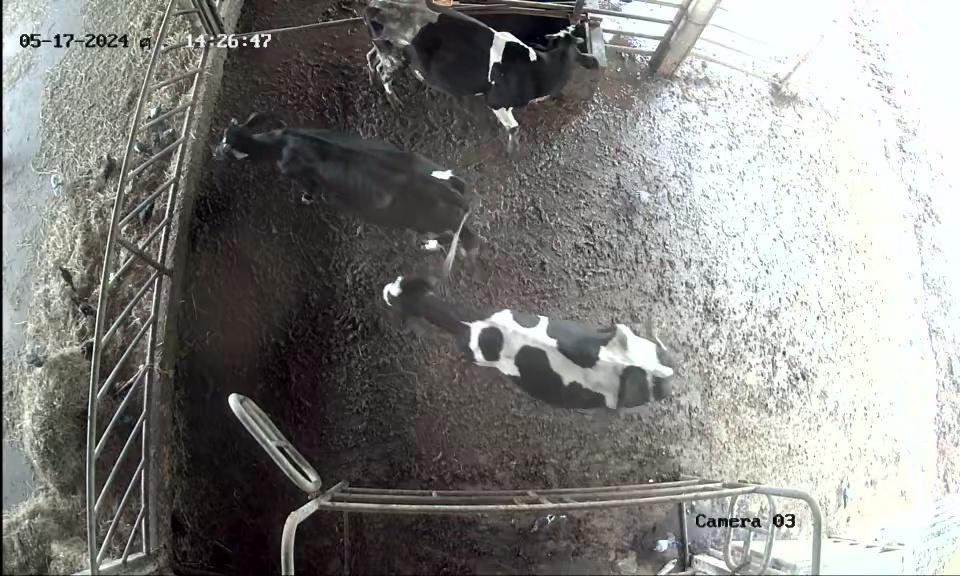drink: (532, 22, 612, 117)
stand: (380, 266, 697, 432), (208, 108, 492, 271)
